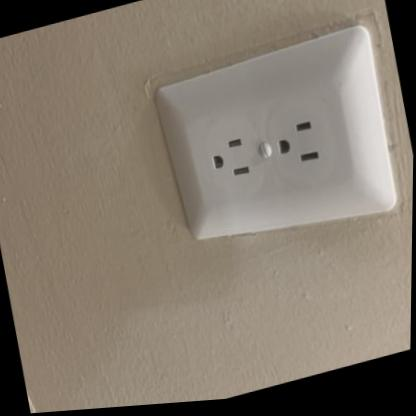OUTLET: (144, 14, 406, 271)
